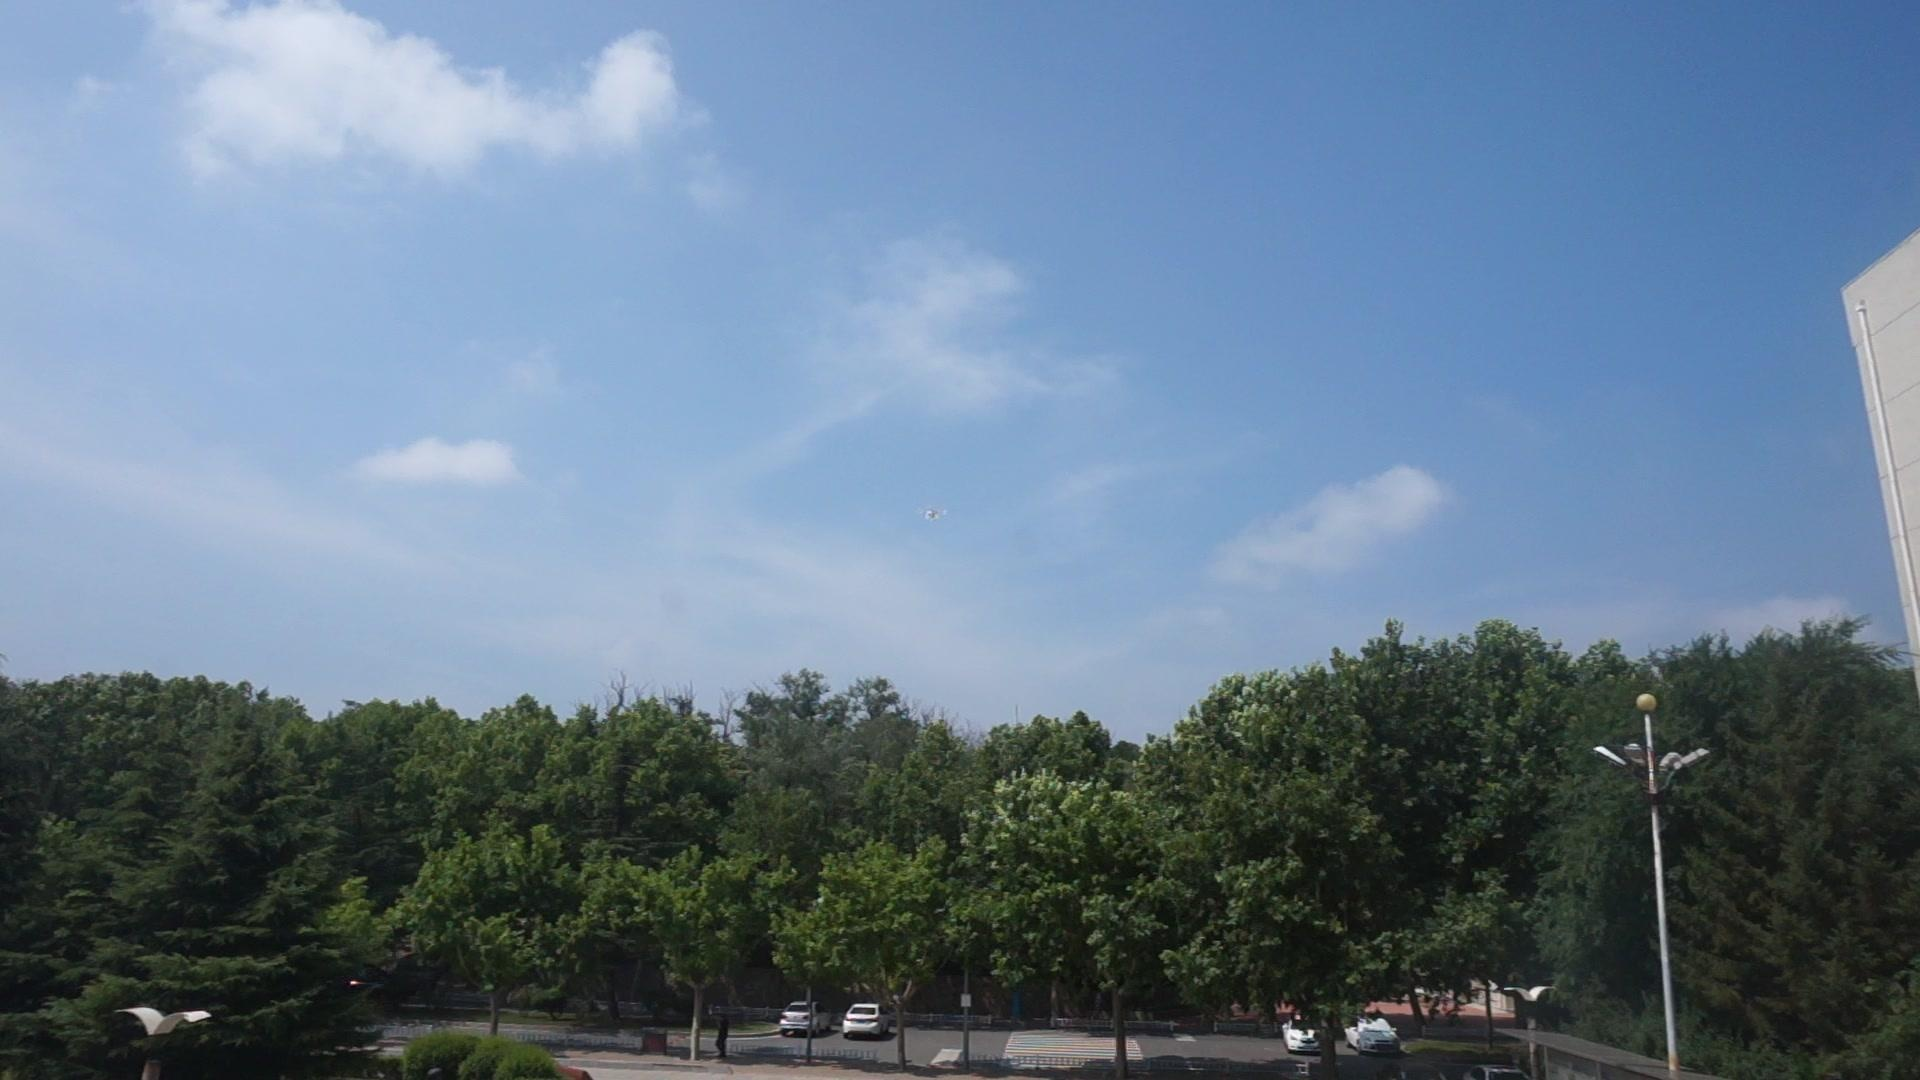UAV: (919, 509, 948, 522)
